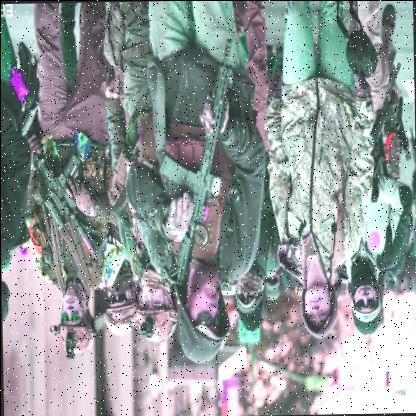rifle: (148, 34, 241, 294), (28, 136, 108, 264), (359, 57, 407, 192)
